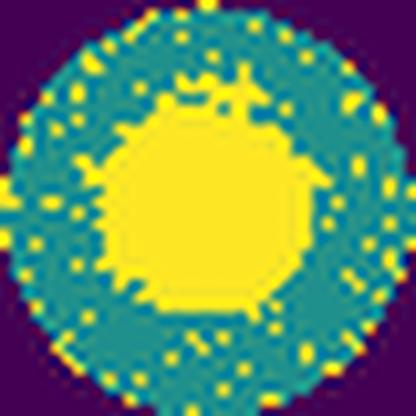Center: (74, 60, 330, 323)
